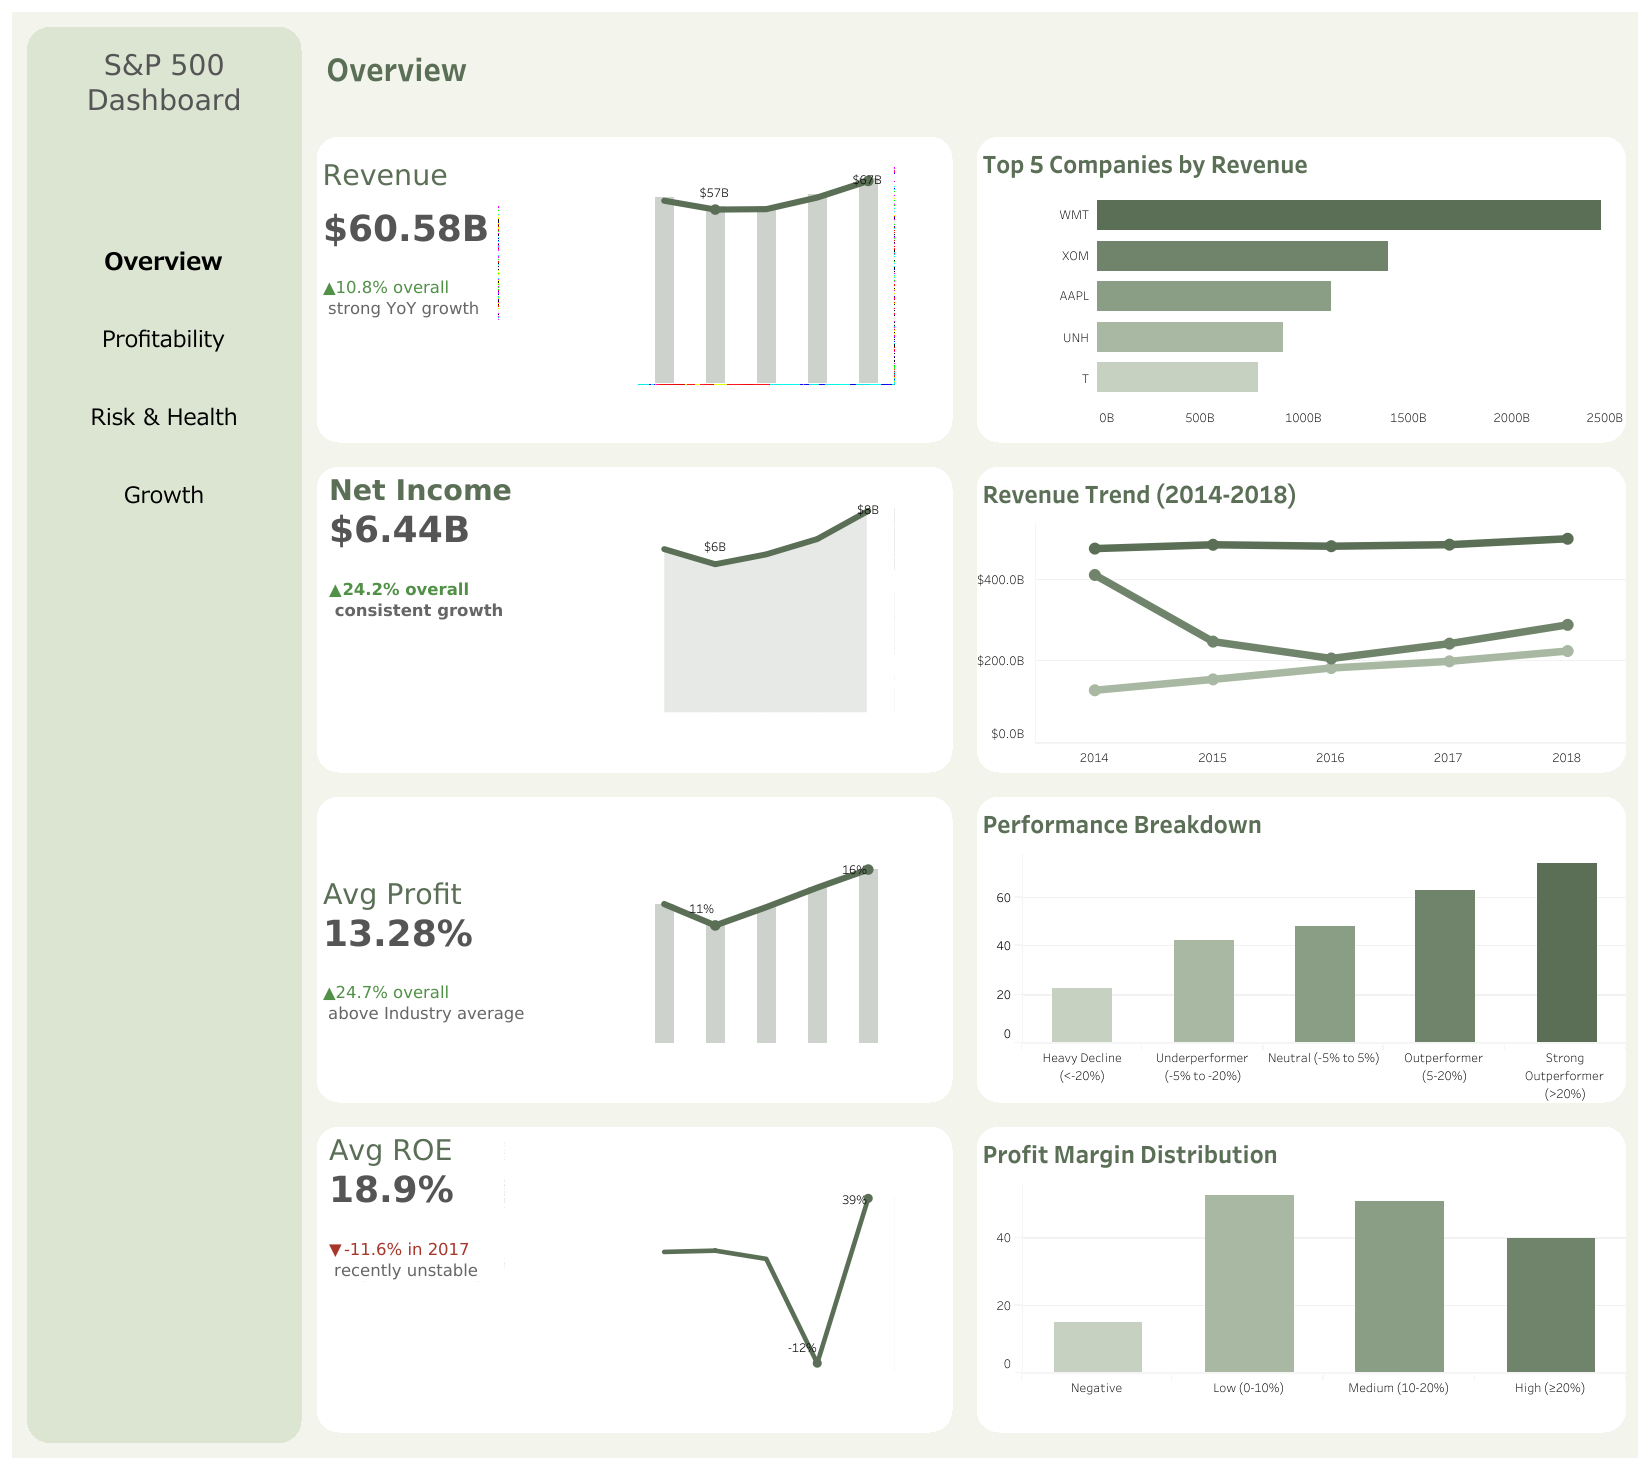

Layout of this report page (visuals, bound fields, positions):
{"tool":"tableau","page":{"name":"Dashboard 1","canvas":[1100,980],"ordinal":0},"visuals":[{"type":"text","box":[211,8,881,75]},{"type":"text","box":[28,28,163,84]},{"type":"worksheet","title":"Revenue Sparkline","mark":"Line","rows":["Revenue","Revenue"],"cols":["Year"],"box":[385.4,83,257.6,220]},{"type":"worksheet","title":"Top 5 Companies ","mark":"Bar","rows":["Ticker"],"cols":["Revenue"],"box":[643,83,449,220]},{"type":"worksheet","title":"revenue","mark":"Automatic","box":[211,91,174.4,204]},{"type":"blank","box":[28,112,163,65]},{"type":"dashboard-object","box":[28,177,163,52]},{"type":"dashboard-object","box":[28,229,163,52]},{"type":"dashboard-object","box":[28,281,163,52]},{"type":"worksheet","title":"net income sparkline","mark":"Area","rows":["Net Income","Net Income"],"cols":["Year"],"box":[385.4,303,257.7,220]},{"type":"worksheet","title":"revenue trend","mark":"Line","rows":["Revenue"],"cols":["Year"],"box":[643.1,303,448.9,220]},{"type":"worksheet","title":"KPI Net Income","mark":"Automatic","box":[211,311,174.4,163]},{"type":"dashboard-object","box":[28,333,163,52]},{"type":"worksheet","title":"avg profit sl","mark":"Bar","rows":["Net Profit Margin","Net Profit Margin"],"cols":["Year"],"box":[385.4,523,257.7,220]},{"type":"worksheet","title":"Performance Breakdown","mark":"Automatic","rows":["Ticker"],"cols":["Performance_Label"],"box":[643.1,523,448.9,220]},{"type":"worksheet","title":"Avg Profit Margin","mark":"Automatic","box":[211,531,174.4,204]},{"type":"worksheet","title":"avg roe","mark":"Line","rows":["returnOnEquity"],"cols":["Year"],"box":[385.4,743,257.7,220]},{"type":"worksheet","title":"Profit Margin Distribution","mark":"Automatic","rows":["Ticker"],"cols":["Profit_Margin_Tier"],"box":[643.1,743,448.9,220]},{"type":"worksheet","title":"Avg ROE","mark":"Automatic","box":[211,751,174.4,163]}]}

Visuals, with their boxes in screenshot pixels (x1, y1, x2, y2), scaled from the page's 1100x980 canvas onto the 1649x1469 screenshot:
text: {"left": 316, "top": 12, "right": 1637, "bottom": 124}
text: {"left": 42, "top": 42, "right": 286, "bottom": 168}
"Revenue Sparkline" worksheet (Line marks): {"left": 578, "top": 124, "right": 964, "bottom": 454}
"Top 5 Companies " worksheet (Bar marks): {"left": 964, "top": 124, "right": 1637, "bottom": 454}
"revenue" worksheet: {"left": 316, "top": 136, "right": 578, "bottom": 442}
blank: {"left": 42, "top": 168, "right": 286, "bottom": 265}
dashboard-object: {"left": 42, "top": 265, "right": 286, "bottom": 343}
dashboard-object: {"left": 42, "top": 343, "right": 286, "bottom": 421}
dashboard-object: {"left": 42, "top": 421, "right": 286, "bottom": 499}
"net income sparkline" worksheet (Area marks): {"left": 578, "top": 454, "right": 964, "bottom": 784}
"revenue trend" worksheet (Line marks): {"left": 964, "top": 454, "right": 1637, "bottom": 784}
"KPI Net Income" worksheet: {"left": 316, "top": 466, "right": 578, "bottom": 711}
dashboard-object: {"left": 42, "top": 499, "right": 286, "bottom": 577}
"avg profit sl" worksheet (Bar marks): {"left": 578, "top": 784, "right": 964, "bottom": 1114}
"Performance Breakdown" worksheet: {"left": 964, "top": 784, "right": 1637, "bottom": 1114}
"Avg Profit Margin" worksheet: {"left": 316, "top": 796, "right": 578, "bottom": 1102}
"avg roe" worksheet (Line marks): {"left": 578, "top": 1114, "right": 964, "bottom": 1444}
"Profit Margin Distribution" worksheet: {"left": 964, "top": 1114, "right": 1637, "bottom": 1444}
"Avg ROE" worksheet: {"left": 316, "top": 1126, "right": 578, "bottom": 1370}
